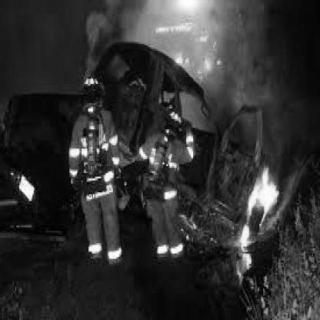Fire: (225, 160, 279, 268)
